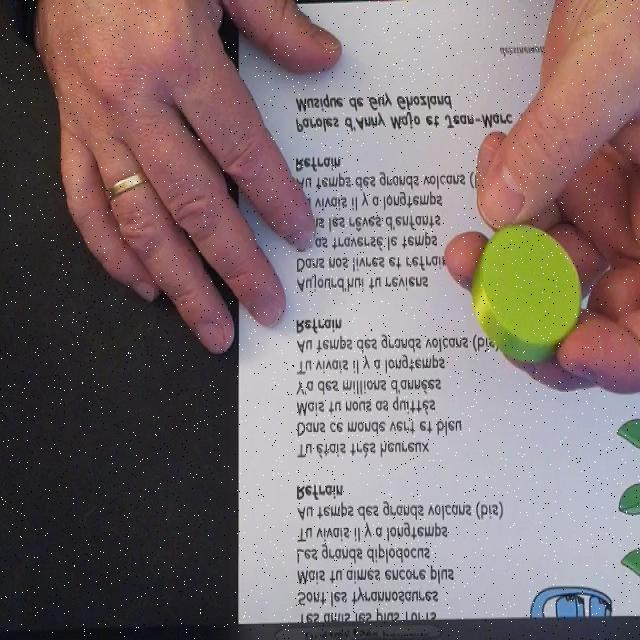round: (473, 224, 583, 363)
